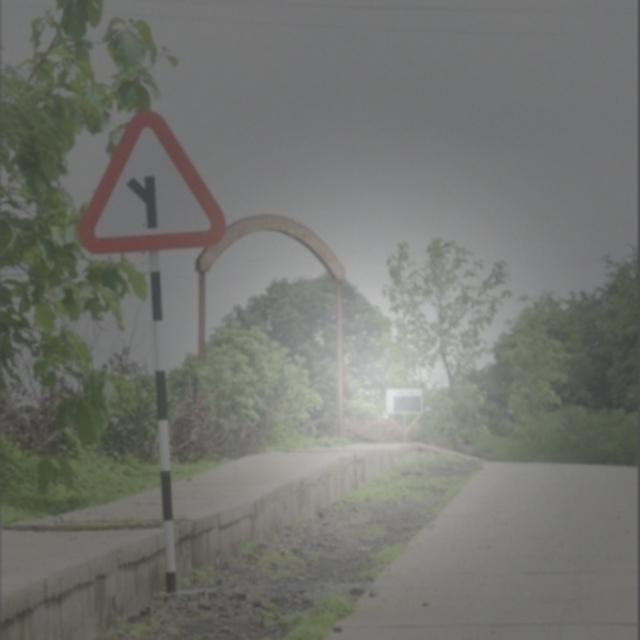Y_Intersection: (91, 114, 224, 246)
